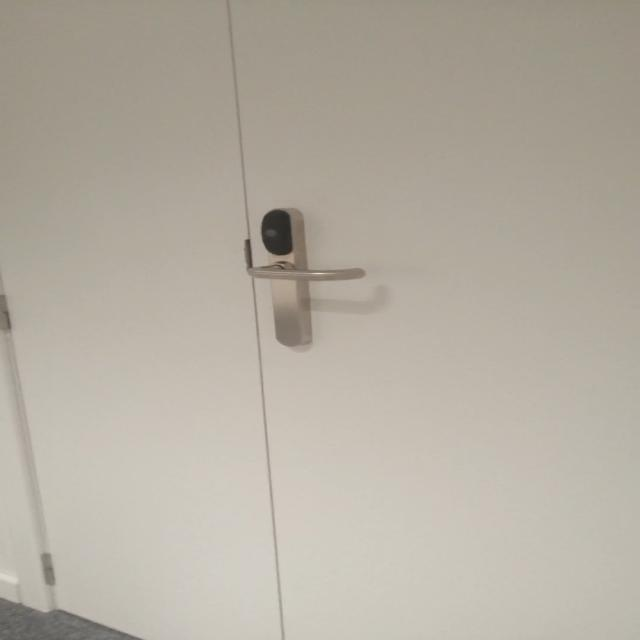door_handle: (237, 260, 374, 285)
